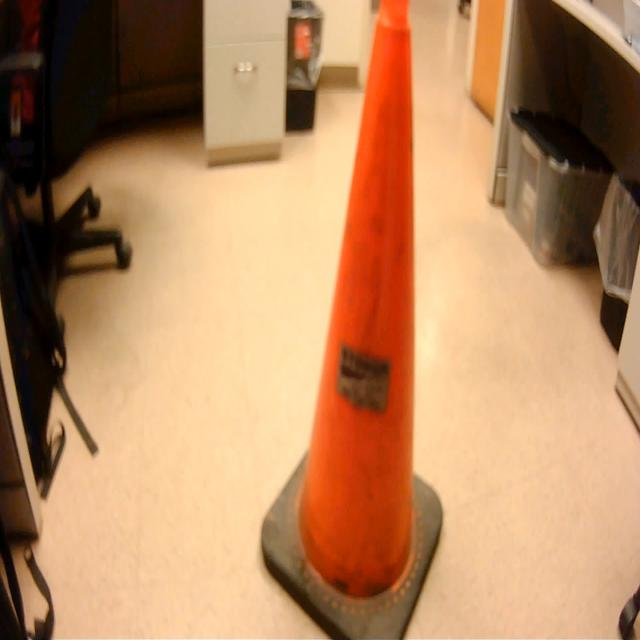traffic cone: (258, 1, 450, 640)
